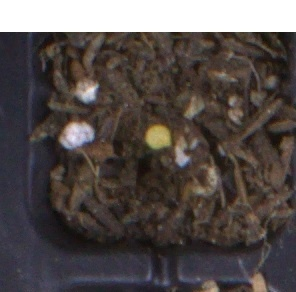chilli seed: (144, 124, 172, 150)
